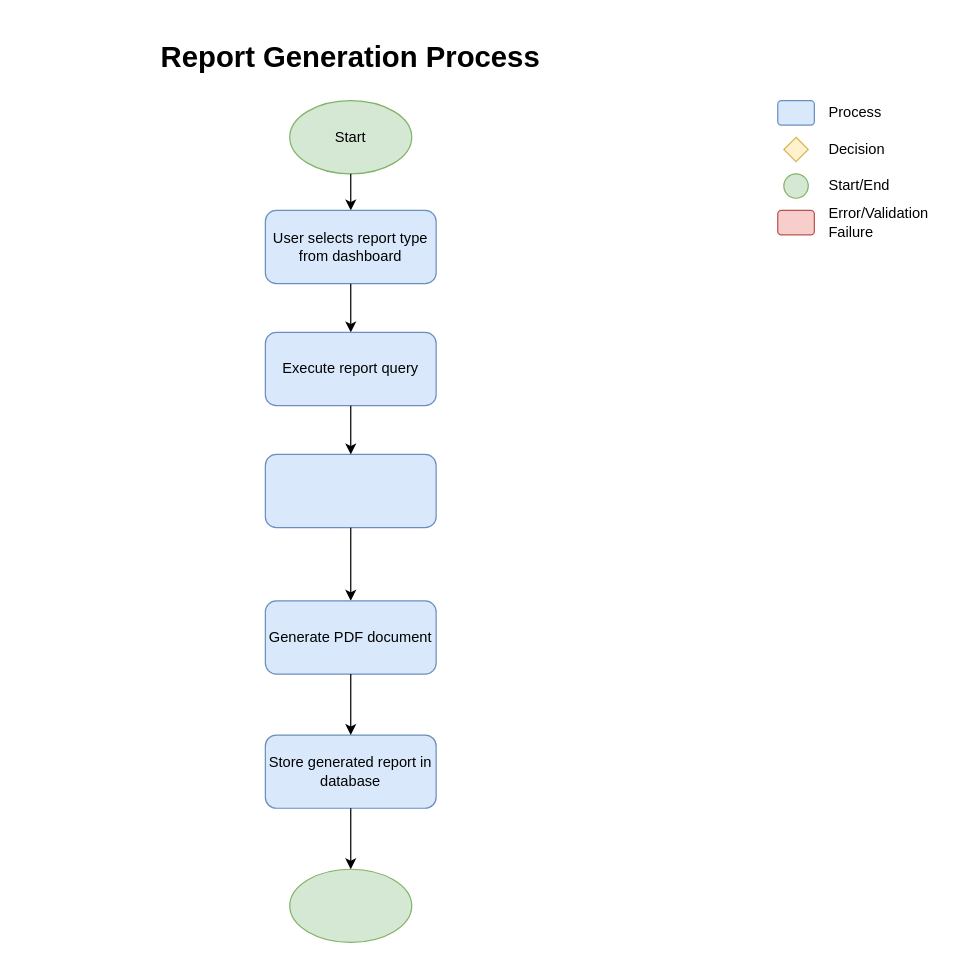
Image size: 969x964. Some labels were removed from this diagram. The centre of each missing label's shape, as x and y in pixels:
"End: Report Generated" goes at point (350, 905).
"Process data and format results" goes at point (350, 490).
